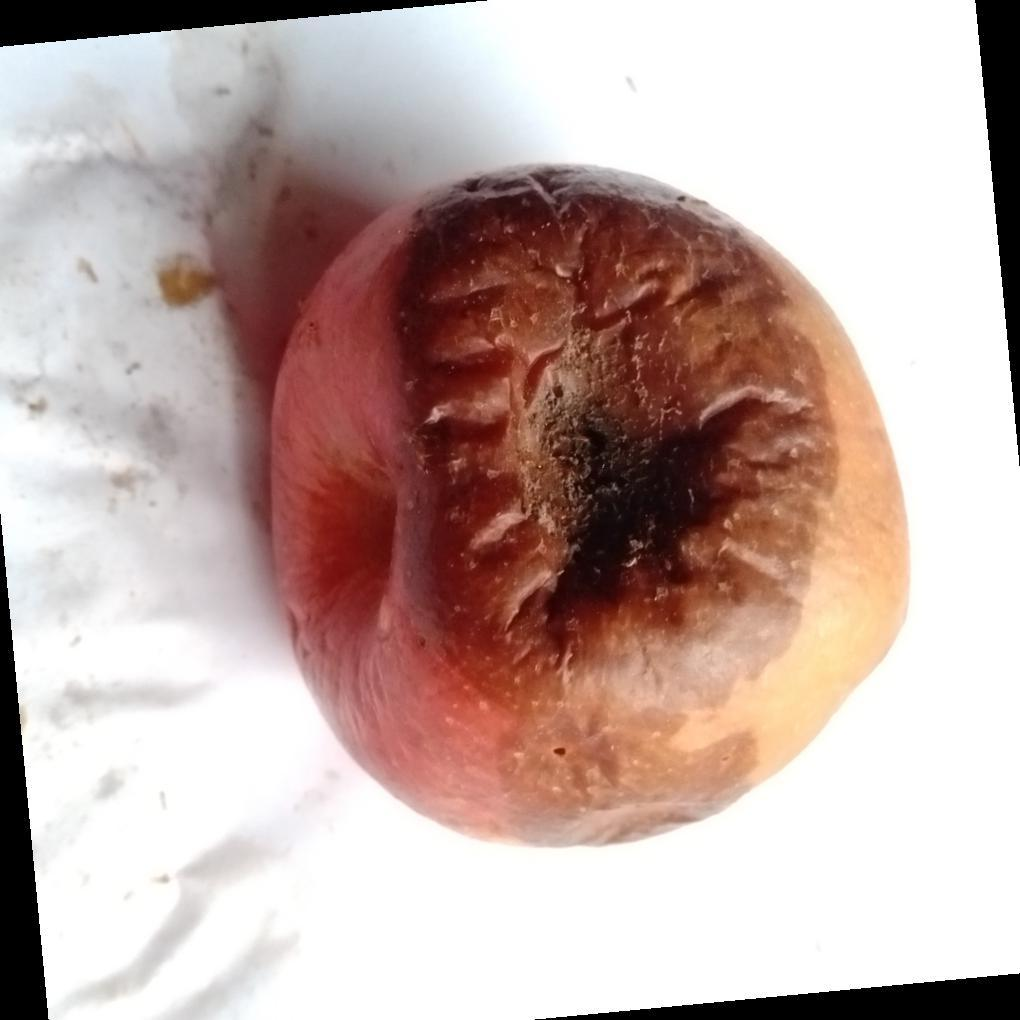FreshOrange: (265, 163, 915, 853)
